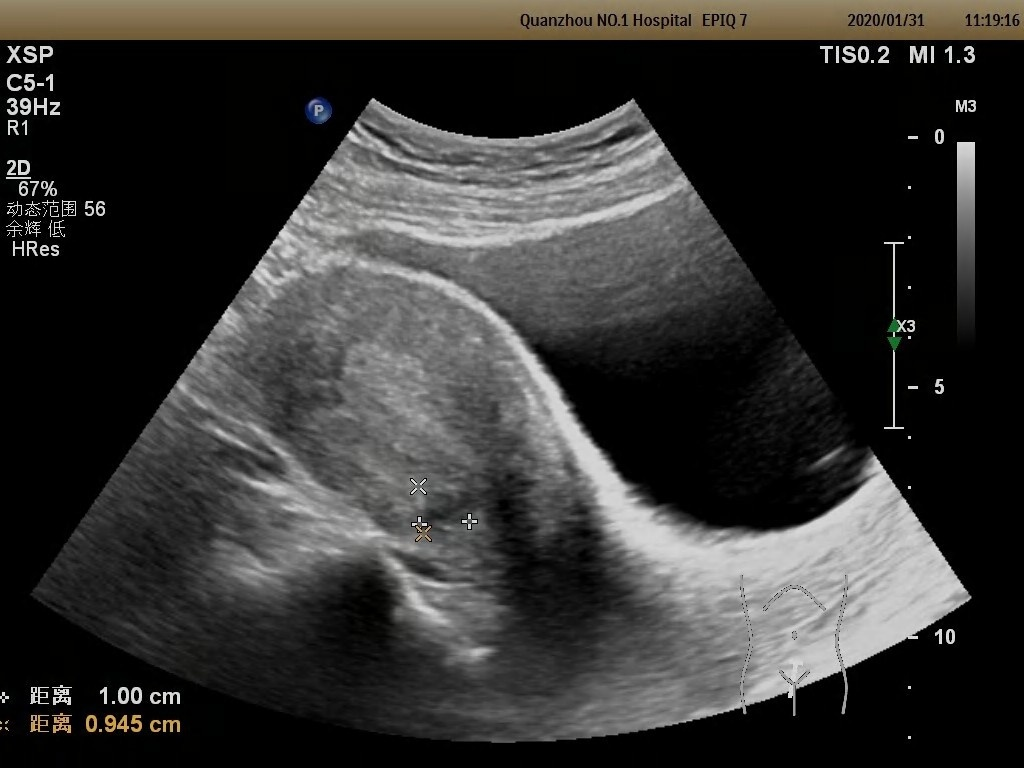肌瘤: (417, 487, 472, 537)
